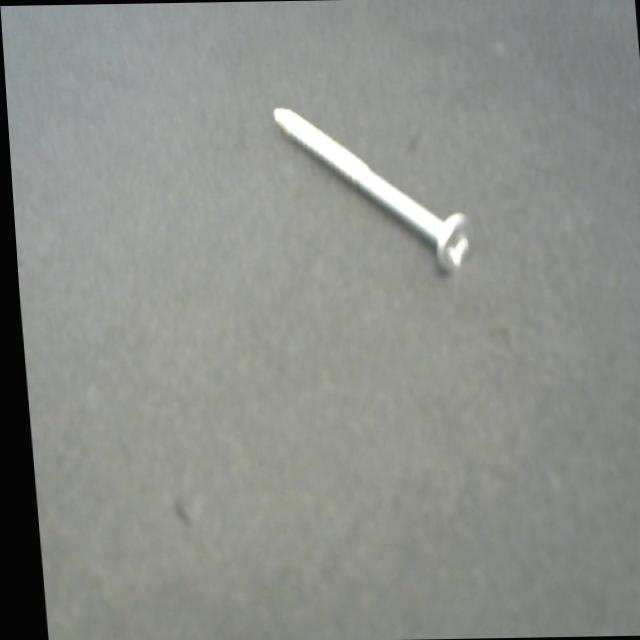WoodScrew: (257, 89, 484, 294)
